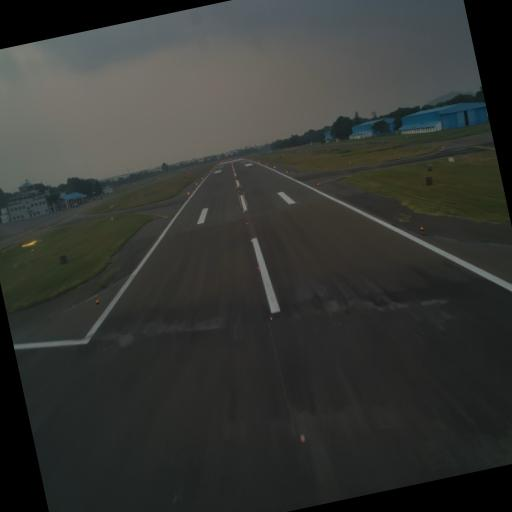on: (298, 430, 307, 445), (417, 220, 426, 234), (94, 294, 102, 308), (268, 312, 276, 324), (255, 262, 262, 272)
